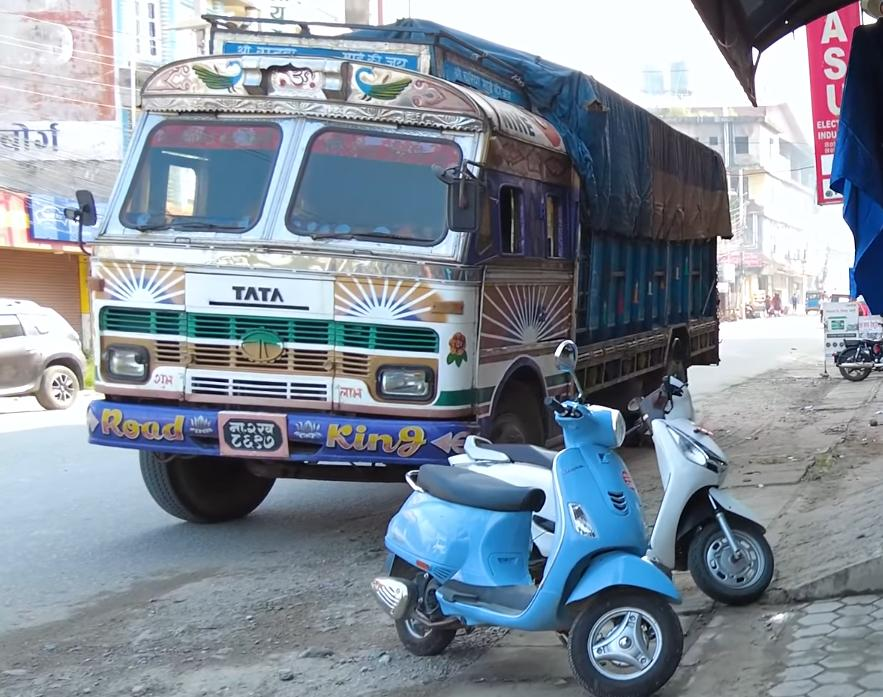car: (0, 294, 86, 415)
scooter: (365, 384, 683, 695), (436, 367, 776, 605)
truck: (65, 13, 734, 524)
